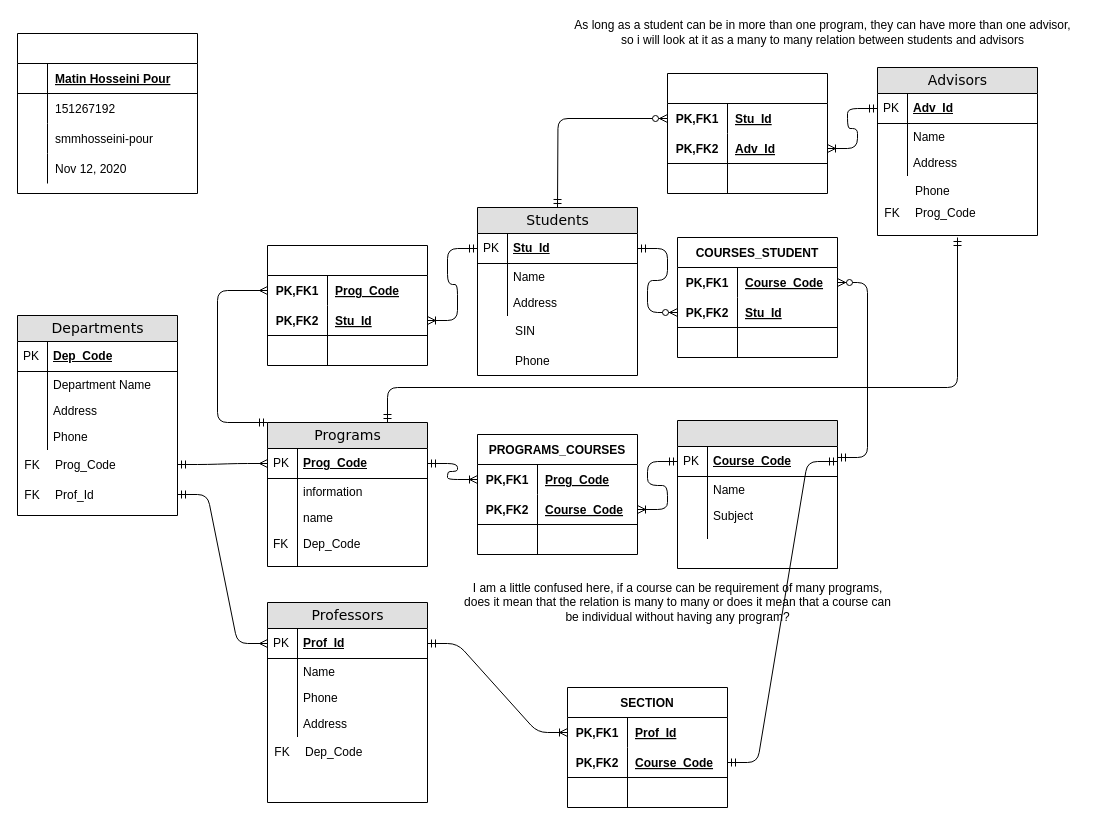
The diagram is 1120 pixels wide and 825 high, and some of its shapes have lost their labels. Here are the shapes that lost their labels. From the top down, the box of each, then its label:
(16, 32, 198, 194): INFO
(666, 72, 828, 194): ADVISOR_STUDENT
(266, 244, 428, 366): PROGRAMS_STUDENT
(676, 420, 838, 568): Courses
